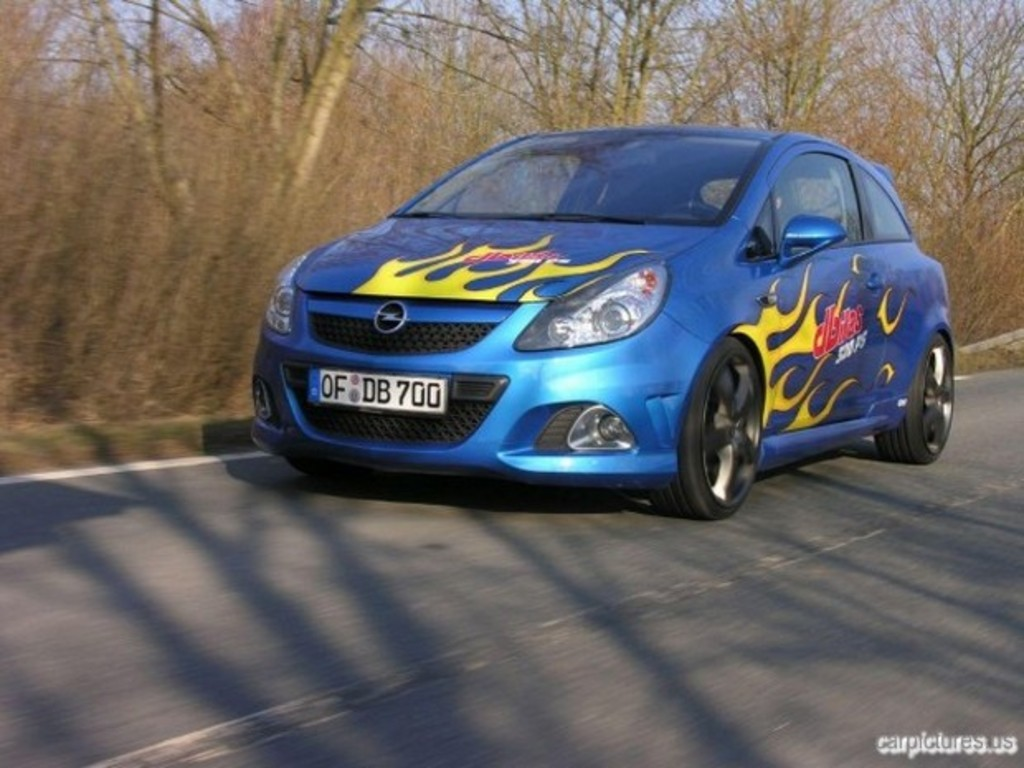Car: (251, 125, 954, 520)
